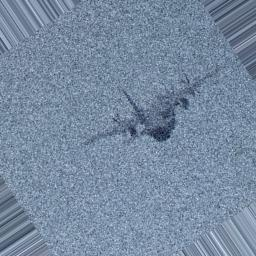Airplane: (78, 64, 219, 147)
